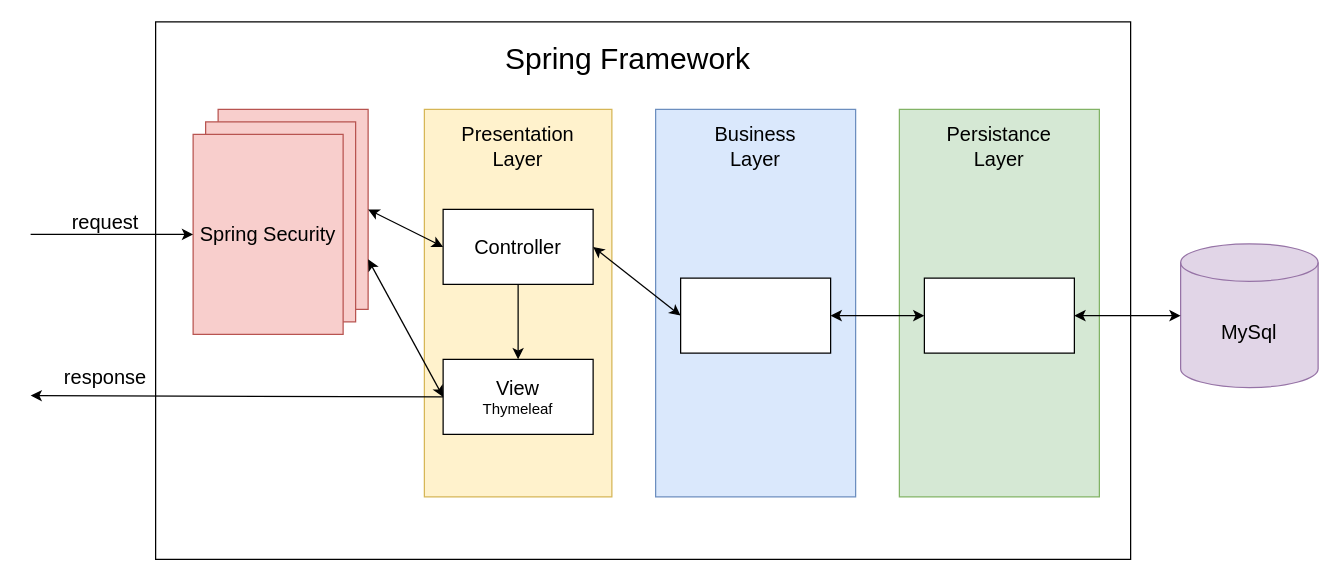
This 1340x581 diagram has some shape labels left out. Here are the shapes that lost their labels. From the top down, the box of each, then its label:
(679, 277, 831, 353): Model Service, Mapper, VO
(923, 277, 1074, 353): SQLMapper Mybatis
